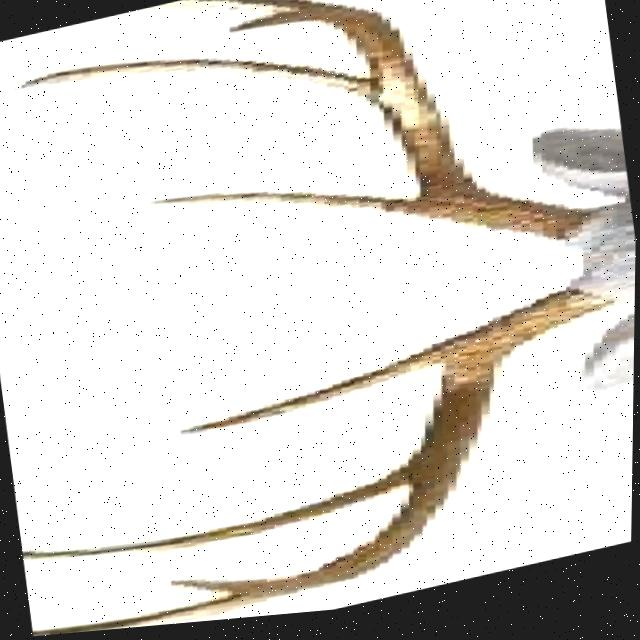L-F: (143, 0, 600, 254)
L-G1: (142, 196, 417, 225)
L-G2: (0, 62, 366, 106)
L-G3: (222, 16, 320, 41)
R-F: (34, 298, 617, 637)
R-G1: (163, 347, 450, 443)
R-G2: (23, 470, 408, 563)
R-G3: (165, 583, 278, 601)
